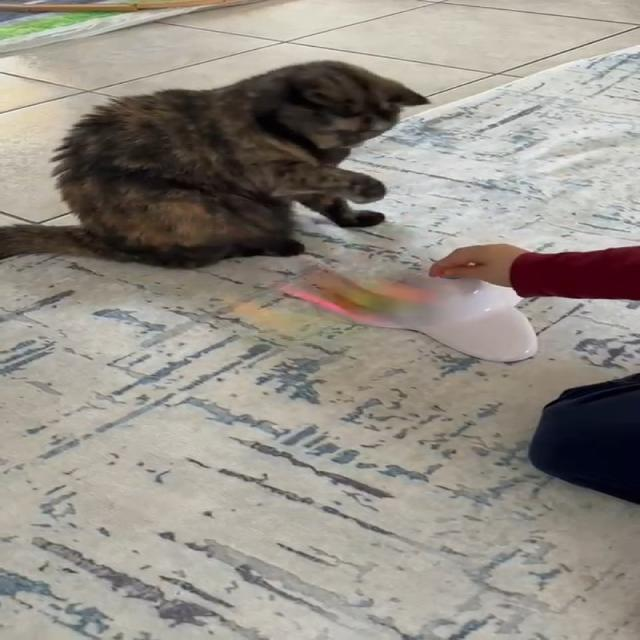authorized: (0, 59, 431, 269)
